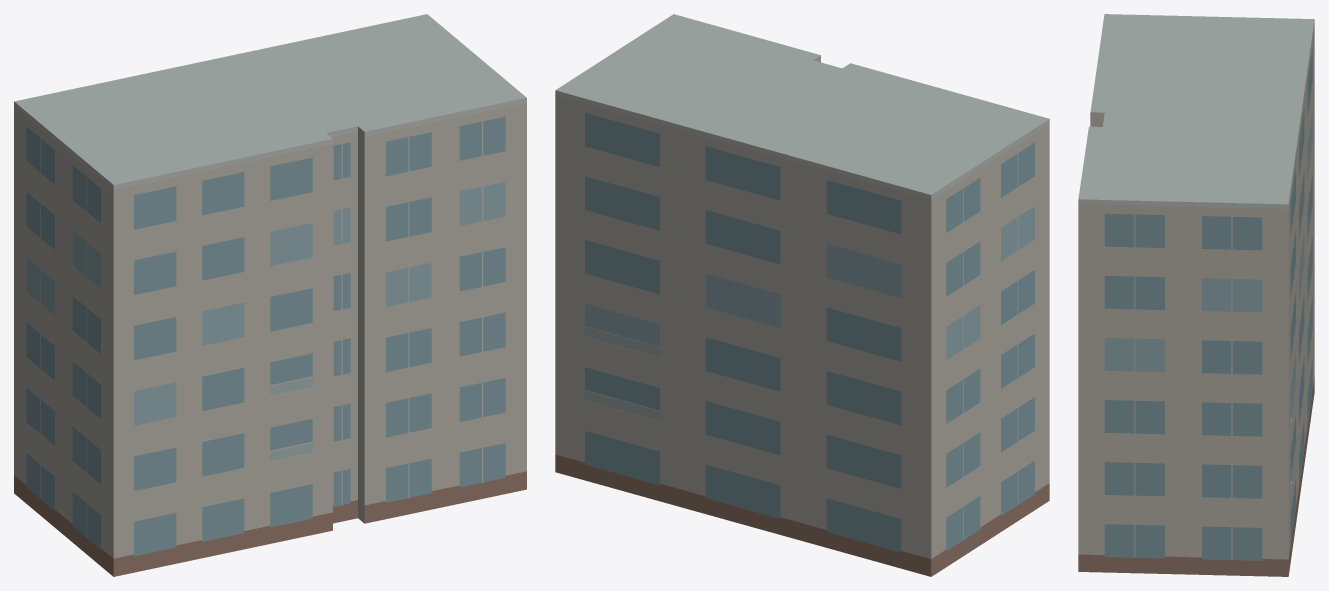
File: survey-upis-32553554.glb
3 renders of one model, left to right at view 1: azimuth 30°, elevation 25°; view 2: azimuth 150°, elevation 25°; view 3: azimuth 270°, elevation 25°, orthographic. The views are drawn at different scales.
Visible parts, largest first — view 1: survey-upis-32553554.tmp; view 2: survey-upis-32553554.tmp; view 3: survey-upis-32553554.tmp.
Boxes of the visible parts, <box> form: survey-upis-32553554.tmp: <box>14,14,526,576</box>; survey-upis-32553554.tmp: <box>555,14,1049,576</box>; survey-upis-32553554.tmp: <box>1078,14,1314,576</box>.
Bounding box in the file's own units: 20.07 × 18.3 × 10.53.
